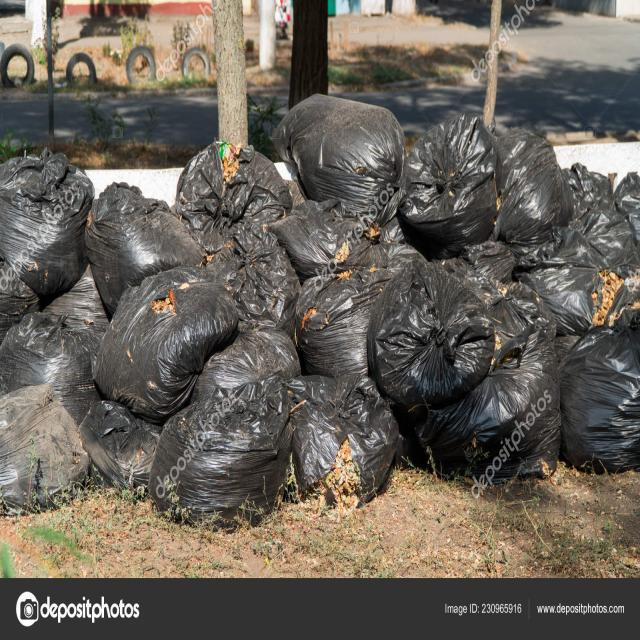plastic_bag: (150, 375, 294, 516), (428, 341, 560, 473), (84, 299, 235, 387), (287, 383, 399, 490), (382, 274, 482, 389), (12, 147, 94, 279), (409, 111, 494, 223), (79, 168, 171, 267), (562, 335, 640, 447), (290, 105, 403, 182), (542, 208, 633, 301), (1, 386, 77, 496), (191, 139, 282, 219), (288, 272, 377, 349)
